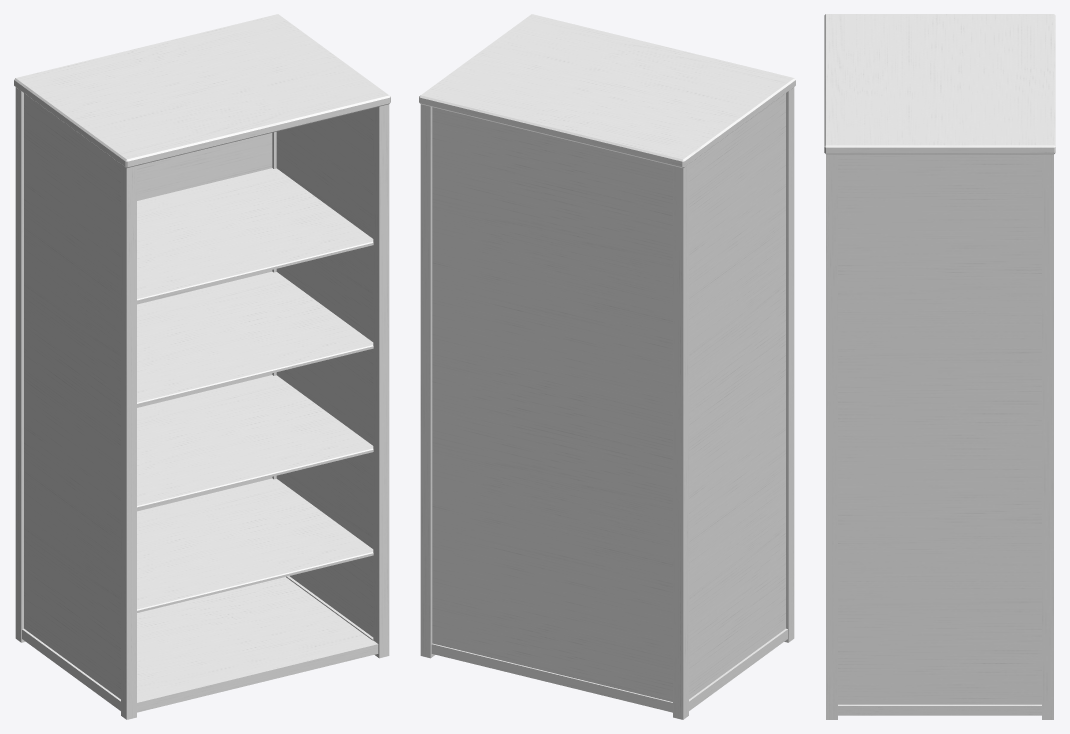
File: rack_c01.fbx
3 renders of one model, left to right at view 1: azimuth 30°, elevation 25°; view 2: azimuth 150°, elevation 25°; view 3: azimuth 270°, elevation 25°, orthographic. The views are drawn at different scales.
Visible parts, largest first — view 1: tana_c01; view 2: tana_c01; view 3: tana_c01.
Part boxes in pixels (left/top/right/bottom): tana_c01: left=14, top=14, right=390, bottom=719; tana_c01: left=419, top=14, right=795, bottom=719; tana_c01: left=824, top=14, right=1055, bottom=719.
Bounding box in the file's own units: 80.59 × 163 × 59.37.
